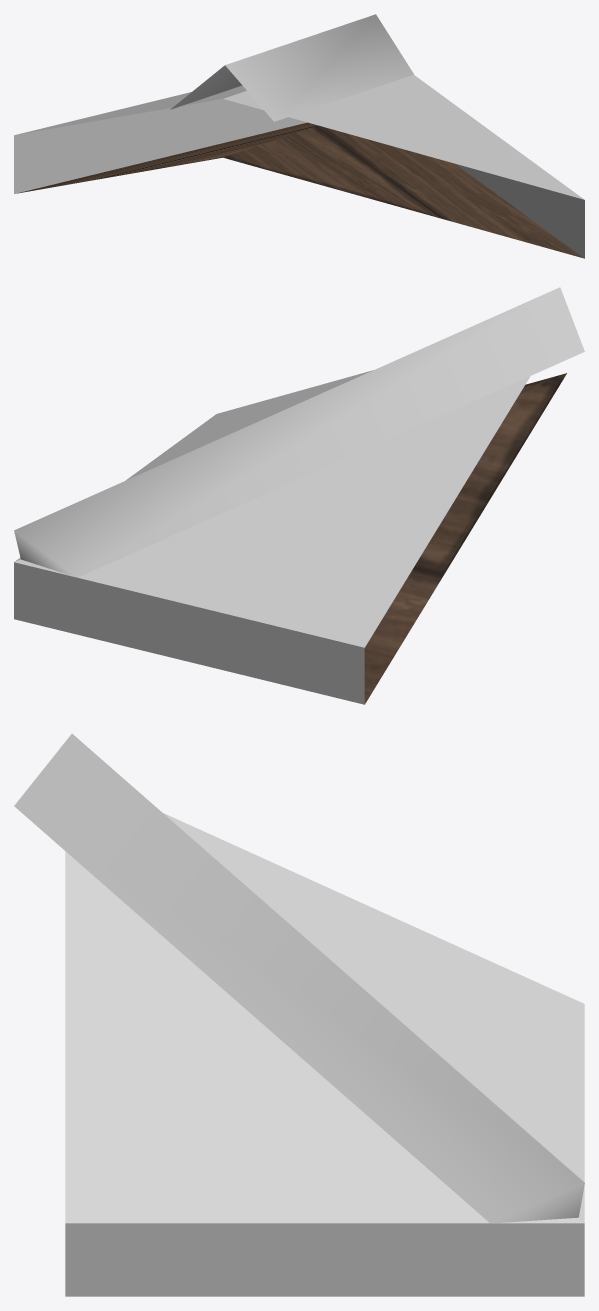
Rendered from Roof_3mH_D_Corner_Edge.fbx.
3 views of the same model, one above another, from view 1: azimuth 30°, elevation 25°; view 2: azimuth 150°, elevation 25°; view 3: azimuth 270°, elevation 25° (orthographic). The views are drawn at different scales.
Parts seen in each view (by area): view 1: Roof_3mH_D_Corner_Edge; view 2: Roof_3mH_D_Corner_Edge; view 3: Roof_3mH_D_Corner_Edge.
Boxes of the visible parts, x1,y1,x2,y2 form: Roof_3mH_D_Corner_Edge: (14, 14, 584, 258); Roof_3mH_D_Corner_Edge: (14, 287, 584, 704); Roof_3mH_D_Corner_Edge: (14, 733, 584, 1296).
Bounding box in the file's own units: 1.06 × 1.06 × 0.711.
